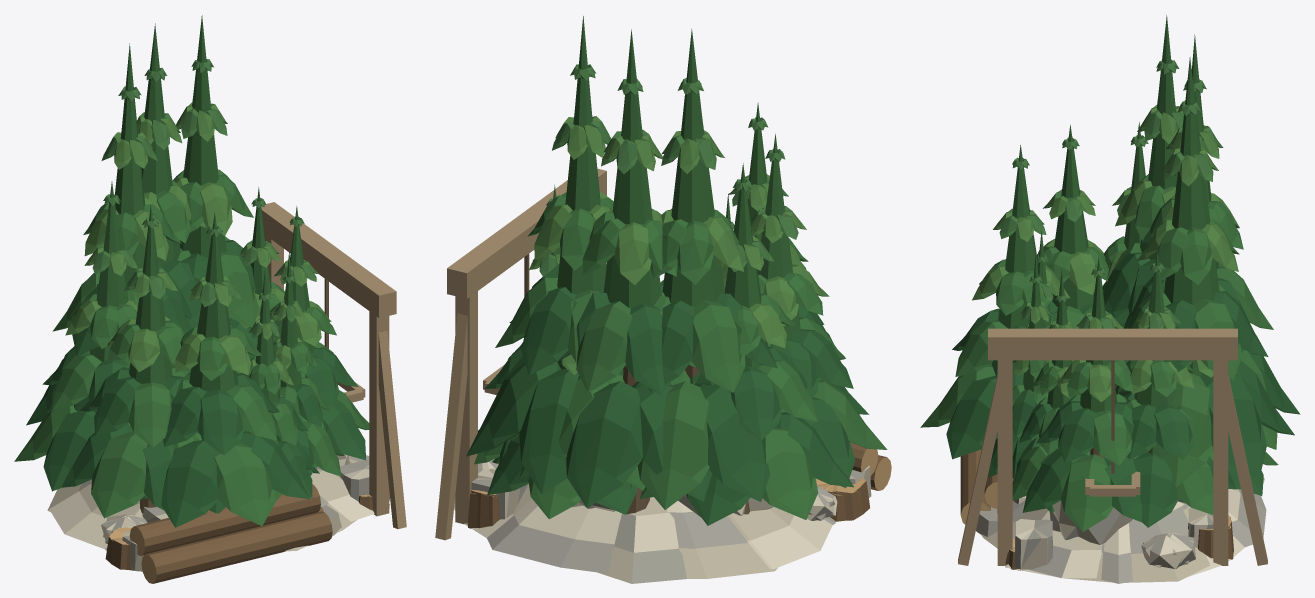
The model's file is RegionOneResources.glb.
3 renders of one model, left to right at view 1: azimuth 30°, elevation 25°; view 2: azimuth 150°, elevation 25°; view 3: azimuth 270°, elevation 25°, orthographic. The views are drawn at different scales.
Visible parts, largest first — view 1: Wood crown 0.002, Wood crown 0.001, Wood crown 0, Wood crown 1, Wood crown 1.002, Quarry lifting gantry and suspended wooden stone sling.002, Wood crown 2, Wood crown 1.001, Wood crown 3.002, Quarry lifting gantry and suspended wooden stone sling, Sawn timber reserve with end grain.002, Wood crown 3.001 (+7 smaller); view 2: Wood crown 1.001, Wood crown 1.002, Wood crown 1, Wood crown 0, Wood crown 0.001, Quarry terraced exposed ledges.001, Quarry lifting gantry and suspended wooden stone sling.002, Quarry lifting gantry and suspended wooden stone sling, Quarry terraced exposed ledges.002, Quarry terraced exposed ledges, Wood crown 2.002, Quarry lifting gantry and suspended wooden stone sling.001 (+4 smaller); view 3: Wood crown 1, Wood crown 2, Quarry lifting gantry and suspended wooden stone sling, Quarry lifting gantry and suspended wooden stone sling.002, Wood crown 0.002, Wood crown 2.001, Wood crown 1.002, Wood crown 0.001, Wood crown 1.001, Wood crown 3.002, Quarry terraced exposed ledges, Wood crown 3.001 (+13 smaller).
Part boxes in pixels (<box>): Wood crown 0.002: <box>141,212,309,527</box>; Wood crown 0.001: <box>61,205,201,518</box>; Wood crown 0: <box>14,181,137,491</box>; Wood crown 1: <box>173,15,258,373</box>; Wood crown 1.002: <box>26,43,191,425</box>; Quarry lifting gantry and suspended wooden stone sling.002: <box>261,202,406,528</box>; Wood crown 2: <box>270,206,369,468</box>; Wood crown 1.001: <box>137,23,206,327</box>; Wood crown 3.002: <box>273,251,344,476</box>; Quarry lifting gantry and suspended wooden stone sling: <box>262,215,406,528</box>; Sawn timber reserve with end grain.002: <box>129,510,263,583</box>; Wood crown 3.001: <box>241,269,319,501</box>; Wood crown 1.001: <box>519,29,711,514</box>; Wood crown 1.002: <box>632,28,781,510</box>; Wood crown 1: <box>466,16,645,494</box>; Wood crown 0: <box>640,163,853,525</box>; Wood crown 0.001: <box>750,133,887,487</box>; Quarry terraced exposed ledges.001: <box>487,499,832,573</box>; Quarry lifting gantry and suspended wooden stone sling.002: <box>435,168,606,538</box>; Quarry lifting gantry and suspended wooden stone sling: <box>435,176,606,540</box>; Quarry terraced exposed ledges.002: <box>454,484,777,578</box>; Quarry terraced exposed ledges: <box>454,464,835,583</box>; Wood crown 2.002: <box>487,354,636,519</box>; Quarry lifting gantry and suspended wooden stone sling.001: <box>445,174,606,539</box>; Wood crown 1: <box>1115,57,1294,487</box>; Wood crown 2: <box>1022,256,1156,531</box>; Quarry lifting gantry and suspended wooden stone sling: <box>958,341,1267,565</box>; Quarry lifting gantry and suspended wooden stone sling.002: <box>958,328,1267,565</box>; Wood crown 0.002: <box>920,145,1069,459</box>; Wood crown 2.001: <box>1124,251,1239,527</box>; Wood crown 1.002: <box>1102,15,1183,388</box>; Wood crown 0.001: <box>1037,124,1109,328</box>; Wood crown 1.001: <box>1123,34,1300,449</box>; Wood crown 3.002: <box>1012,268,1074,513</box>; Quarry terraced exposed ledges: <box>995,478,1264,582</box>; Wood crown 3.001: <box>987,251,1052,479</box>.
Bounding box in the file's own units: 10.08 × 13.32 × 9.88.
